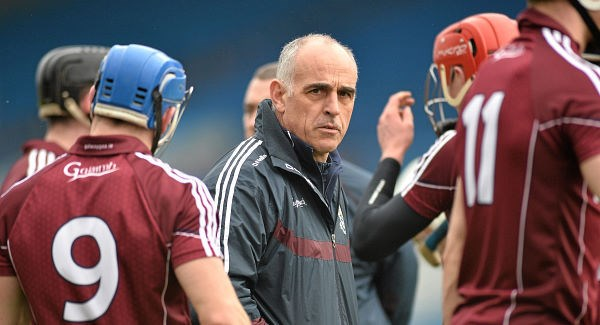player: (214, 23, 382, 316), (33, 45, 201, 316), (442, 4, 586, 313)
